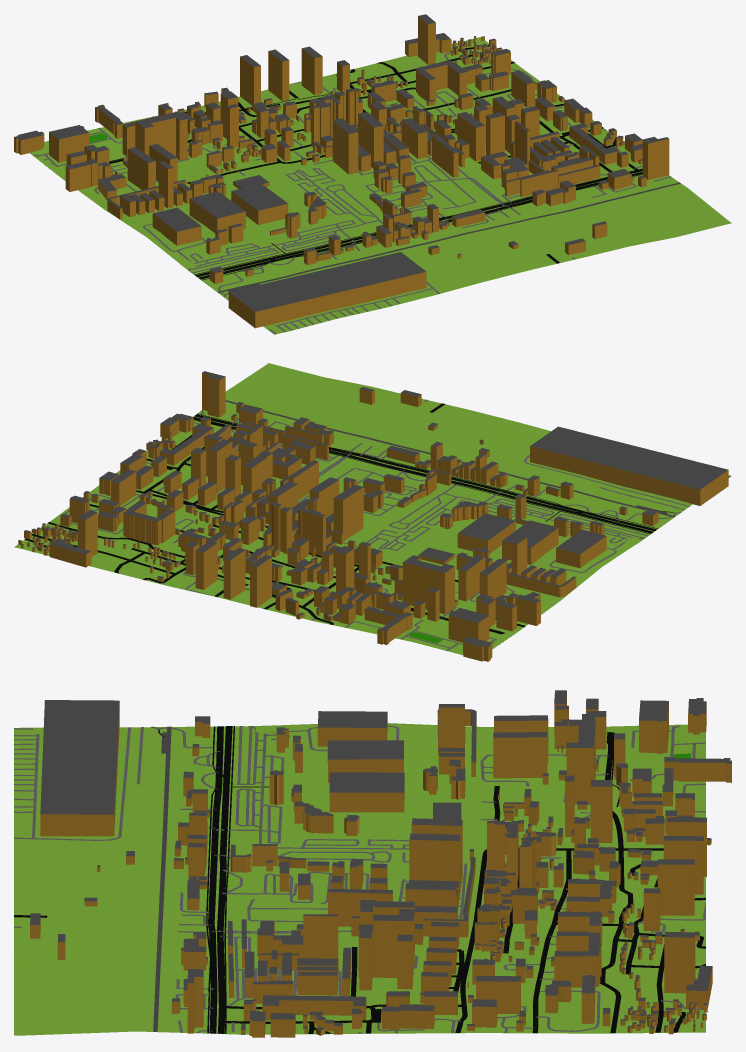
File: tile_08_03.glb
3 views of the same model, one above another, from view 1: azimuth 30°, elevation 25°; view 2: azimuth 150°, elevation 25°; view 3: azimuth 270°, elevation 25° (orthographic). The views are drawn at different scales.
Parts seen in each view (by area): view 1: Ub_small.osm_buildings_08_03, Terrain_08_03, Ub_small.osm_roads_service_08_03, Ub_small.osm_roads_residential_08_03, Ub_small.osm_roads_primary_08_03, Ub_small.osm_railways_08_03, Ub_small.osm_paths_footway_08_03; view 2: Ub_small.osm_buildings_08_03, Terrain_08_03, Ub_small.osm_roads_service_08_03, Ub_small.osm_roads_primary_08_03, Ub_small.osm_roads_residential_08_03, Ub_small.osm_paths_footway_08_03, Ub_small.osm_railways_08_03; view 3: Ub_small.osm_buildings_08_03, Terrain_08_03, Ub_small.osm_roads_service_08_03, Ub_small.osm_roads_residential_08_03, Ub_small.osm_roads_primary_08_03, Ub_small.osm_railways_08_03, Ub_small.osm_paths_footway_08_03, Ub_small.osm_roads_tertiary_08_03.
Boxes of the visible parts, box(x1,y1,x2,y2) form: Ub_small.osm_buildings_08_03: box(14, 14, 669, 328); Terrain_08_03: box(30, 37, 731, 334); Ub_small.osm_roads_service_08_03: box(34, 49, 671, 334); Ub_small.osm_roads_residential_08_03: box(113, 45, 639, 263); Ub_small.osm_roads_primary_08_03: box(195, 169, 642, 279); Ub_small.osm_railways_08_03: box(217, 182, 680, 292); Ub_small.osm_paths_footway_08_03: box(109, 94, 642, 294); Ub_small.osm_buildings_08_03: box(18, 371, 728, 661); Terrain_08_03: box(14, 363, 731, 654); Ub_small.osm_roads_service_08_03: box(48, 399, 730, 650); Ub_small.osm_roads_primary_08_03: box(193, 414, 656, 533); Ub_small.osm_roads_residential_08_03: box(24, 403, 525, 627); Ub_small.osm_paths_footway_08_03: box(193, 413, 674, 634); Ub_small.osm_railways_08_03: box(225, 400, 674, 517); Ub_small.osm_buildings_08_03: box(30, 690, 731, 1037); Terrain_08_03: box(14, 723, 705, 1035); Ub_small.osm_roads_service_08_03: box(14, 725, 705, 1033); Ub_small.osm_roads_residential_08_03: box(14, 786, 705, 1033); Ub_small.osm_roads_primary_08_03: box(208, 726, 232, 1033); Ub_small.osm_railways_08_03: box(153, 726, 171, 1031); Ub_small.osm_paths_footway_08_03: box(158, 726, 619, 1033); Ub_small.osm_roads_tertiary_08_03: box(222, 732, 623, 1009).
Size of the model in its own units: 1009 by 98.26 by 965.
